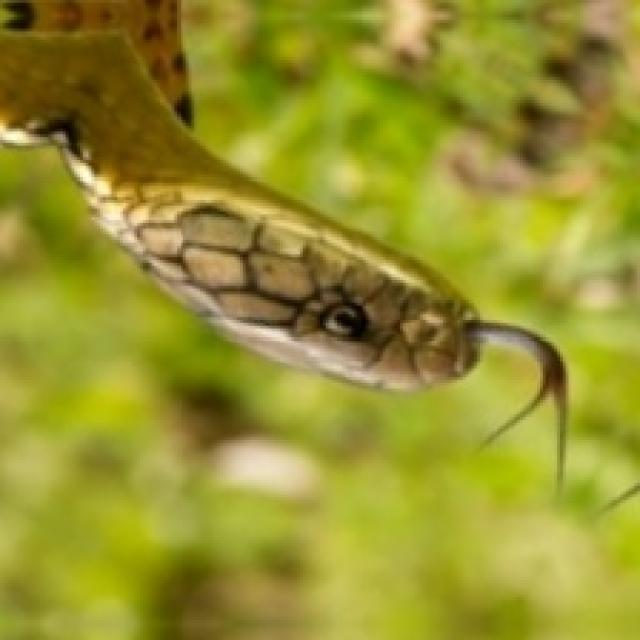king cobra: (0, 0, 566, 486)
